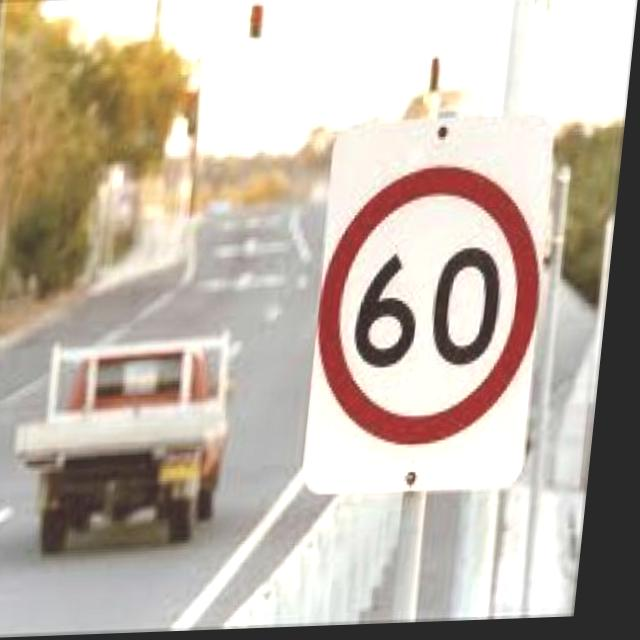limit60: (305, 158, 566, 460)
